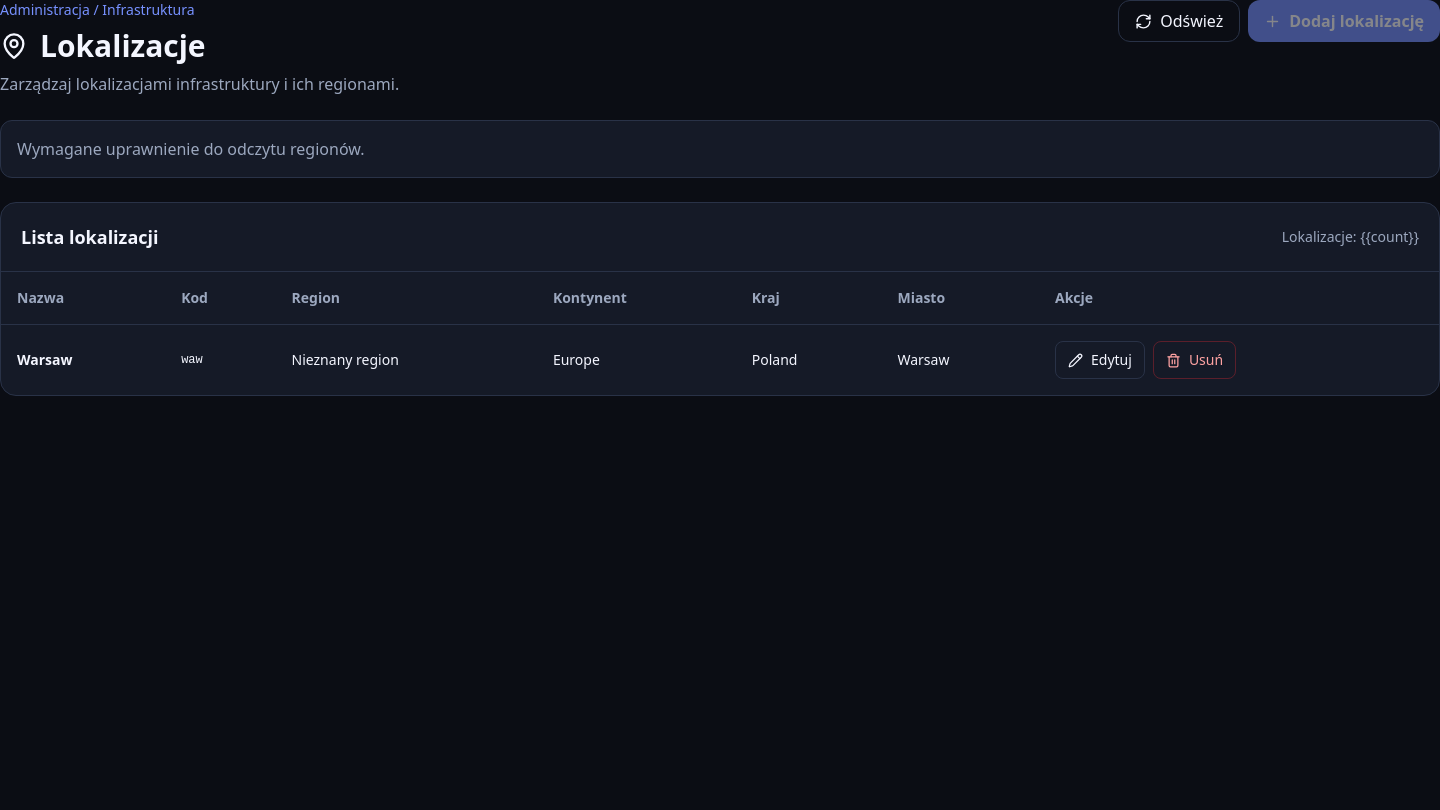
Test case: Locations RBAC v2 › loads locations without requesting inaccessible regions and preserves the assigned region in edits
Check: the text "waw" is shown, box [165,324,276,395]
Check: the button "Dodaj lokalizację" is disabled, box [1248,0,1439,42]
Click the button "Edytuj" at (1100, 360), box [1055,341,1145,379]
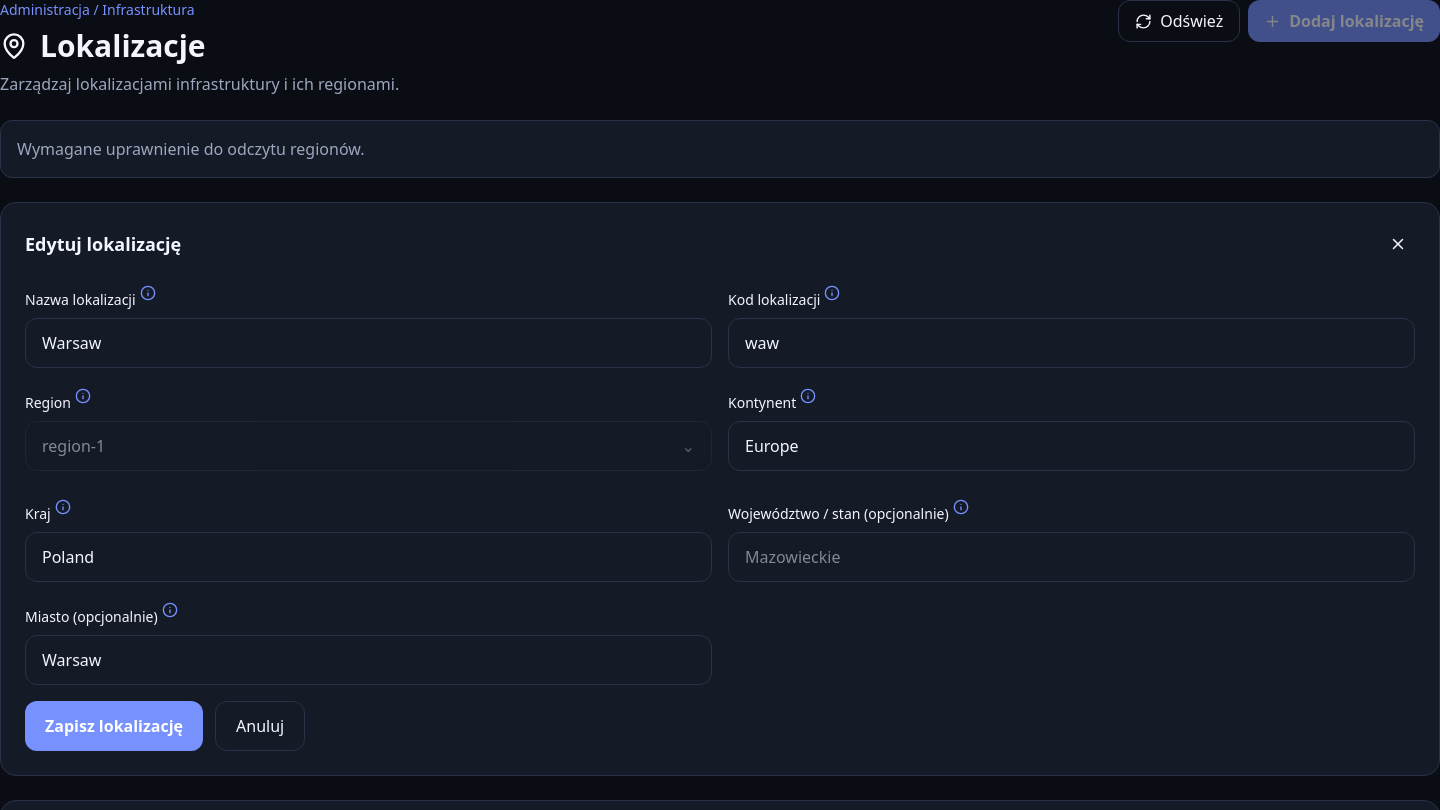
Check: the button "region-1 ⌄" is disabled, box [25,421,712,471]
Check: the button "region-1 ⌄" is shown, box [25,421,712,471]
